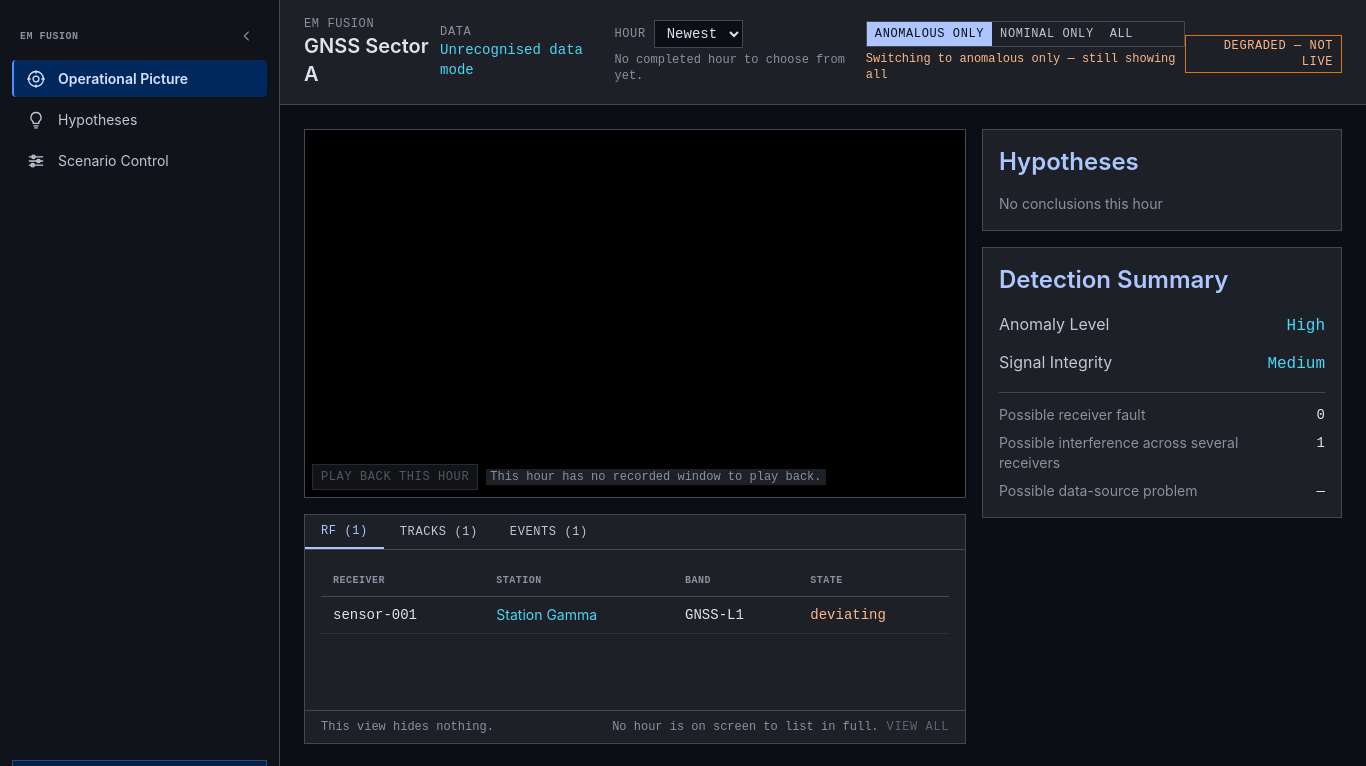
it: collapsing the navigation rail › still offers a way out once collapsed
The image size is (1366, 766).
Click the button named "navigation".
click(247, 36)  # box [235, 24, 259, 48]
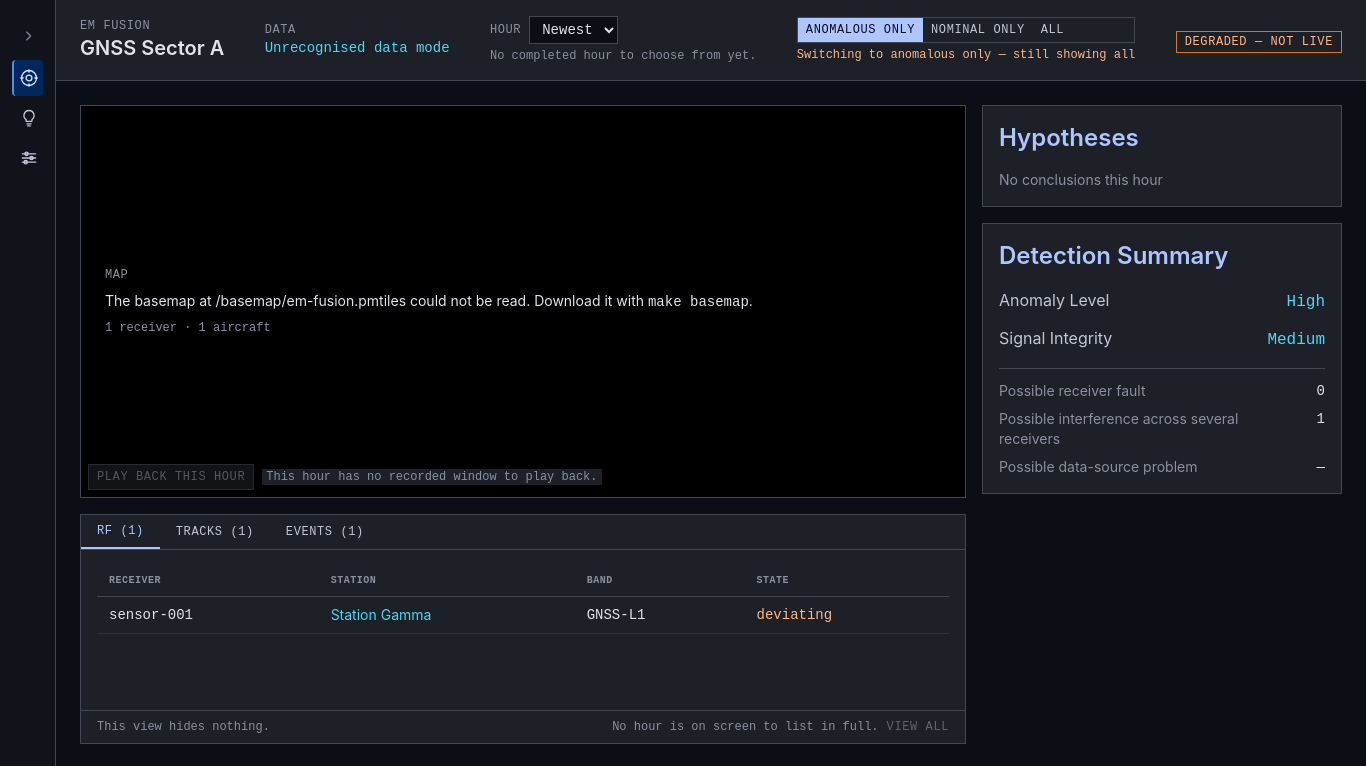
Result: the button named "navigation" is collapsed at [16, 24, 40, 48]
